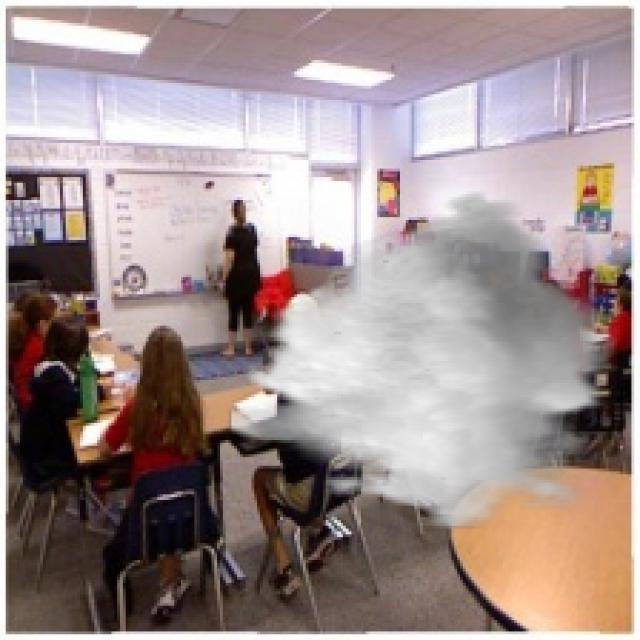Smoke: (228, 186, 618, 528)
